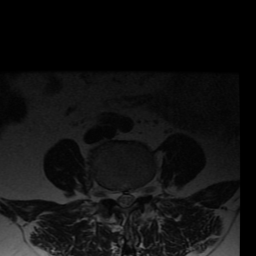CCS_normal: (121, 185, 129, 211)
LFS_normal: (136, 181, 144, 202)
LLS_normal: (129, 185, 136, 206)
RFS_normal: (107, 184, 115, 204)
RLS_normal: (115, 186, 122, 207)
